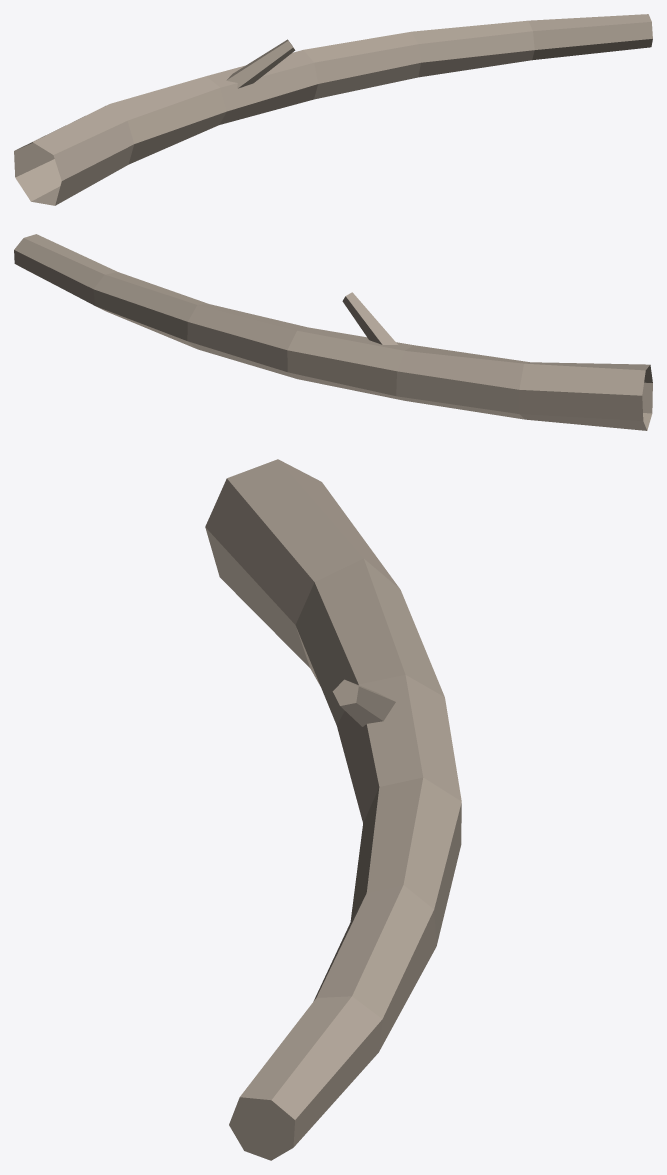
Rendered from Blender_Driftwood_1.glb.
The picture shows the model from 3 angles, top to bottom: view 1: azimuth 30°, elevation 25°; view 2: azimuth 150°, elevation 25°; view 3: azimuth 270°, elevation 25°; orthographic projection. The views are drawn at different scales.
Visible parts, largest first — view 1: Blender_Driftwood_1; view 2: Blender_Driftwood_1; view 3: Blender_Driftwood_1.
Part boxes in pixels (bbox=[...]): Blender_Driftwood_1: bbox=[14, 14, 652, 205]; Blender_Driftwood_1: bbox=[14, 234, 652, 430]; Blender_Driftwood_1: bbox=[205, 459, 461, 1160].
Size of the model in its own units: 4.29 by 0.5381 by 0.7627.
